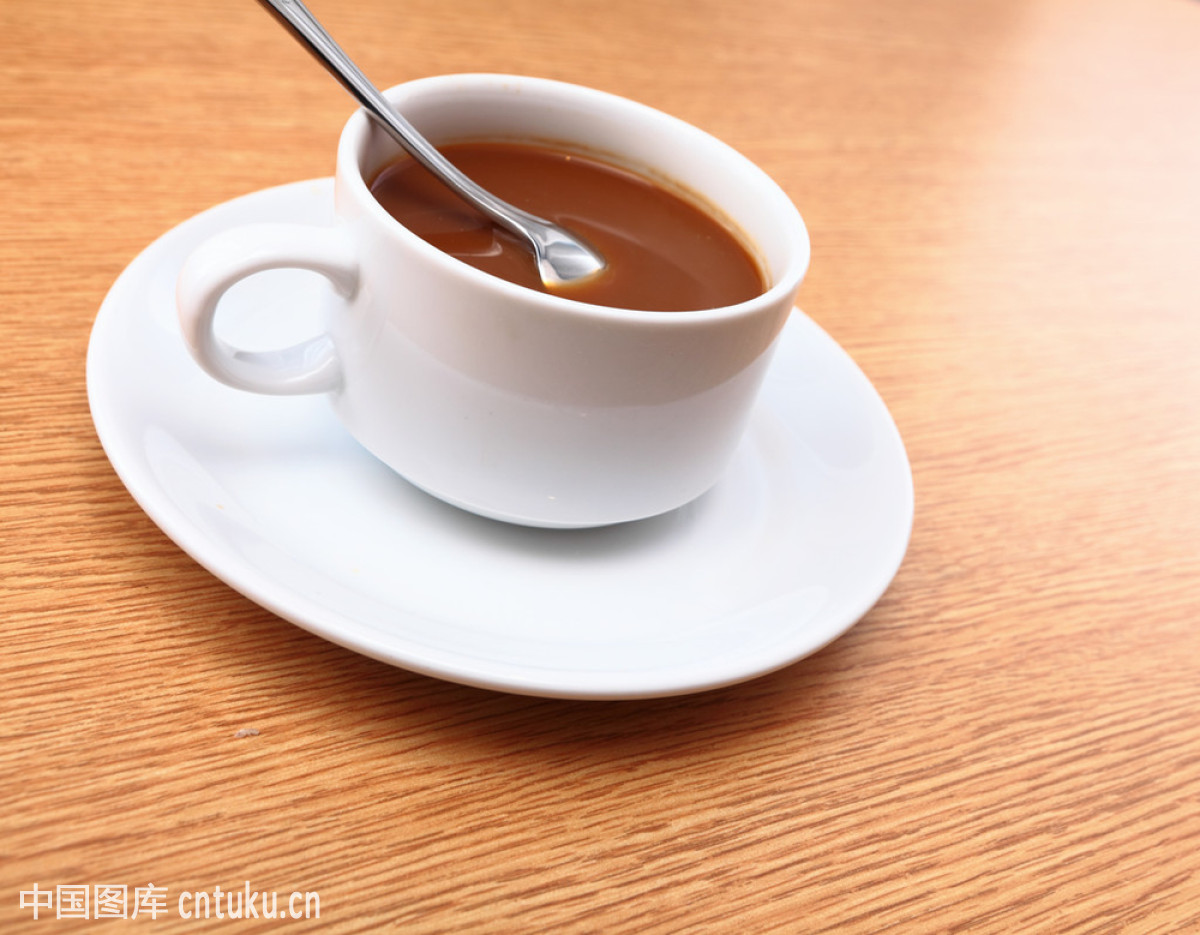cup: (173, 66, 816, 535)
